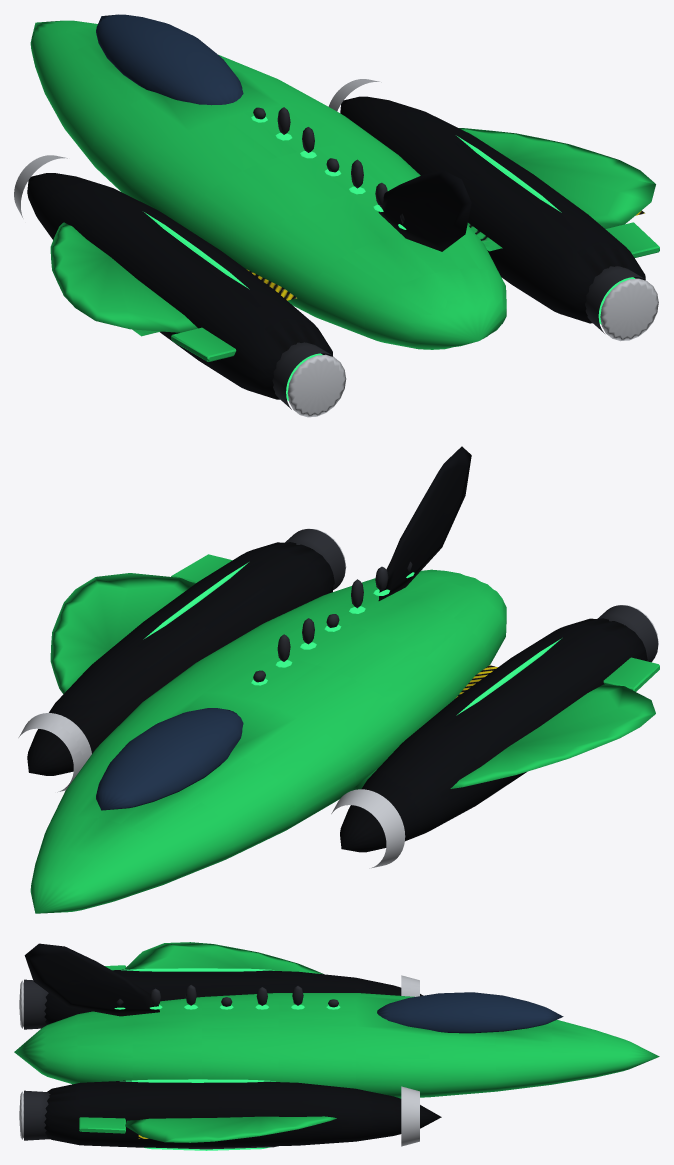
The model's file is craft_2.glb.
The picture shows the model from 3 angles, top to bottom: view 1: azimuth 30°, elevation 25°; view 2: azimuth 150°, elevation 25°; view 3: azimuth 270°, elevation 25°; orthographic projection. The views are drawn at different scales.
Visible parts, largest first — view 1: craft_2_body, craft_2_canopy, flap_L_plate.002, flap_R_plate.002; view 2: craft_2_body, craft_2_canopy, flap_L_plate.002, flap_R_plate.002; view 3: craft_2_body, craft_2_canopy, flap_R_plate.002.
Boxes of the visible parts, bbox=[...] form: craft_2_body: bbox=[14, 20, 658, 417]; craft_2_canopy: bbox=[96, 14, 243, 105]; flap_L_plate.002: bbox=[171, 327, 236, 361]; flap_R_plate.002: bbox=[605, 222, 659, 257]; craft_2_body: bbox=[18, 446, 658, 913]; craft_2_canopy: bbox=[96, 708, 243, 810]; flap_L_plate.002: bbox=[603, 657, 659, 691]; flap_R_plate.002: bbox=[171, 554, 232, 583]; craft_2_body: bbox=[14, 942, 659, 1150]; craft_2_canopy: bbox=[377, 992, 563, 1033]; flap_R_plate.002: bbox=[79, 1117, 125, 1133].
Bounding box in the file's own units: 5.6 × 1.9 × 7.62.
Materials: 8 (1 with a texture image).
